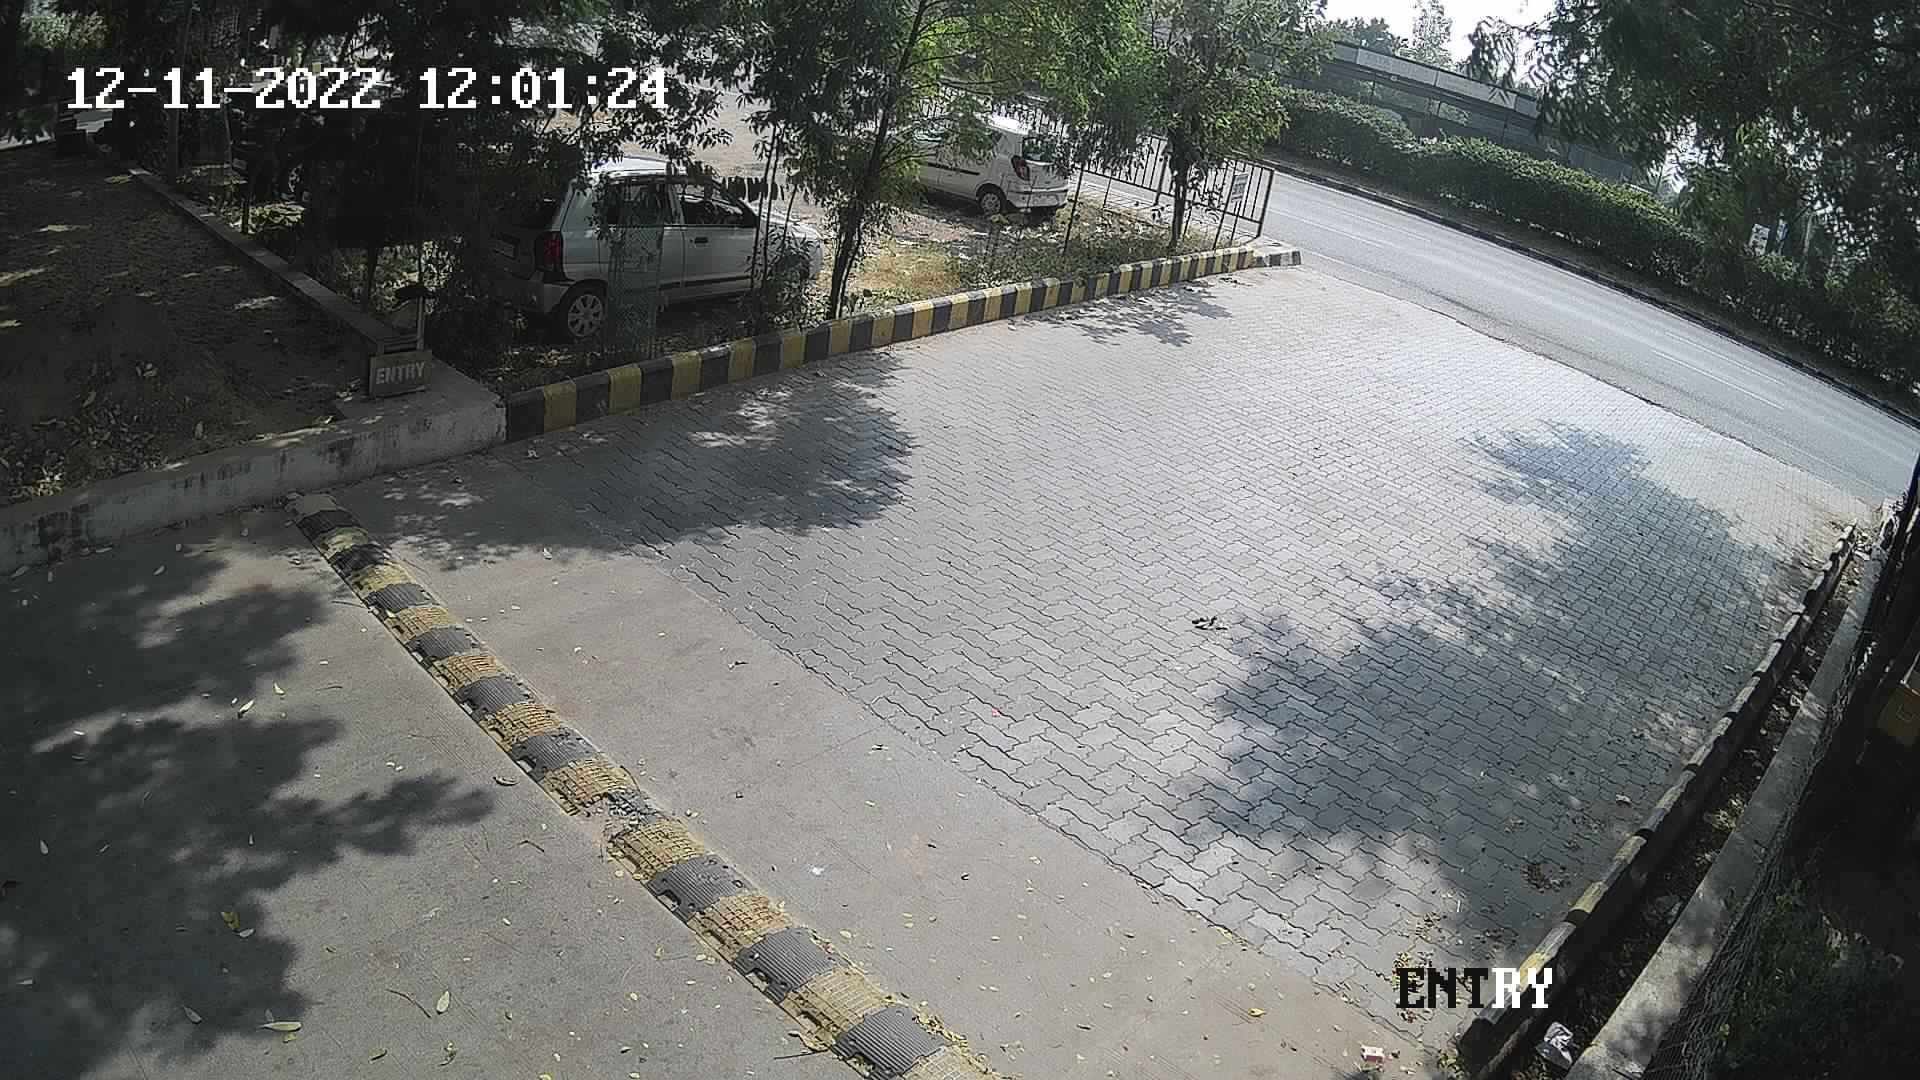Car: (454, 133, 829, 344), (845, 98, 1079, 219)
